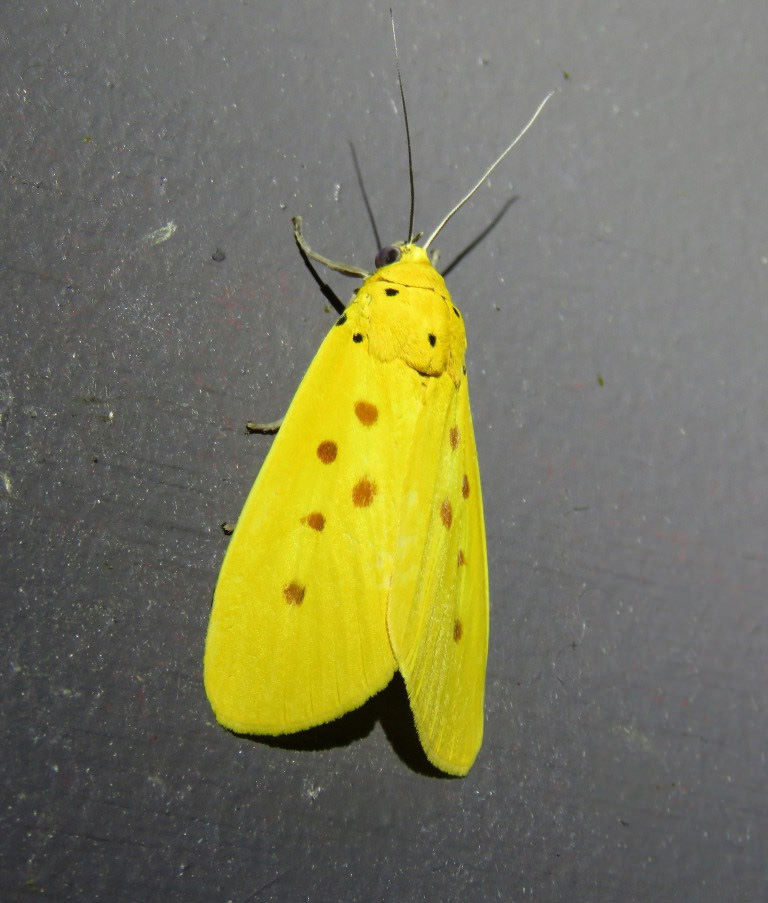Agape chloropyga: (197, 4, 554, 777)
moth: (195, 2, 552, 775)
